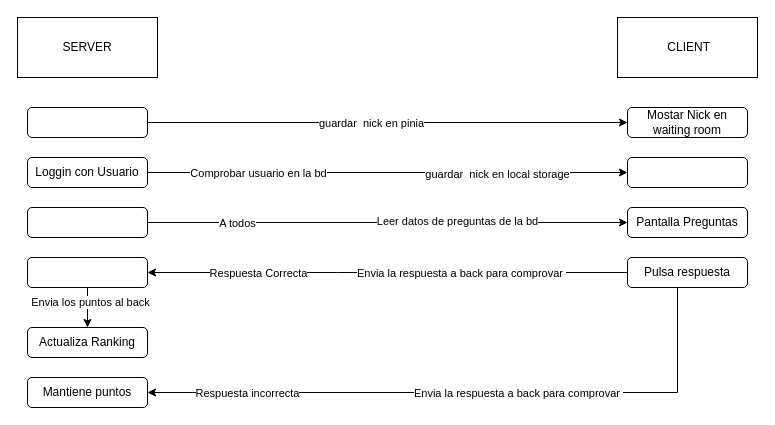
The diagram is 775 pixels wide and 425 high, and some of its shapes have lost their labels. Here are the shapes that lost their labels. From the top down, the centre of each, then its label:
At [87,122]: "Loggin con Nick".
At [687,172]: "Entrar en Waiting room".
At [87,222]: "Iniciar partida".
At [87,272]: "Gana Puntos".
